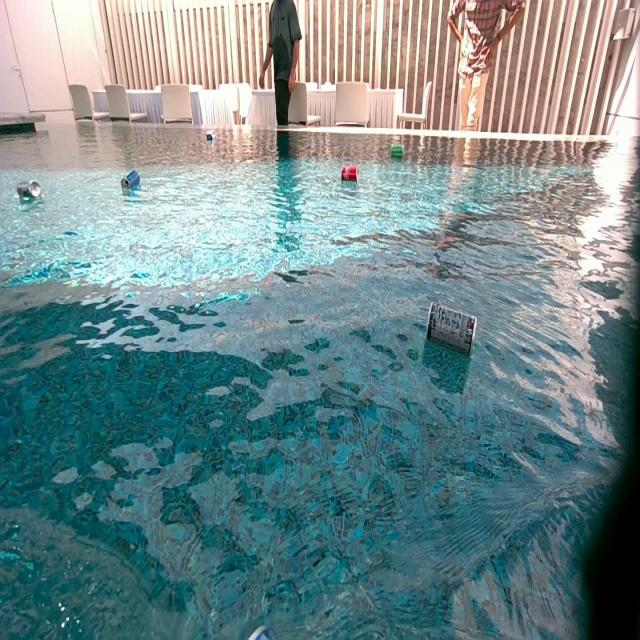Cans: (426, 301, 478, 358), (18, 179, 41, 200), (122, 170, 142, 190), (342, 167, 358, 183), (390, 142, 404, 158), (206, 130, 216, 141)
